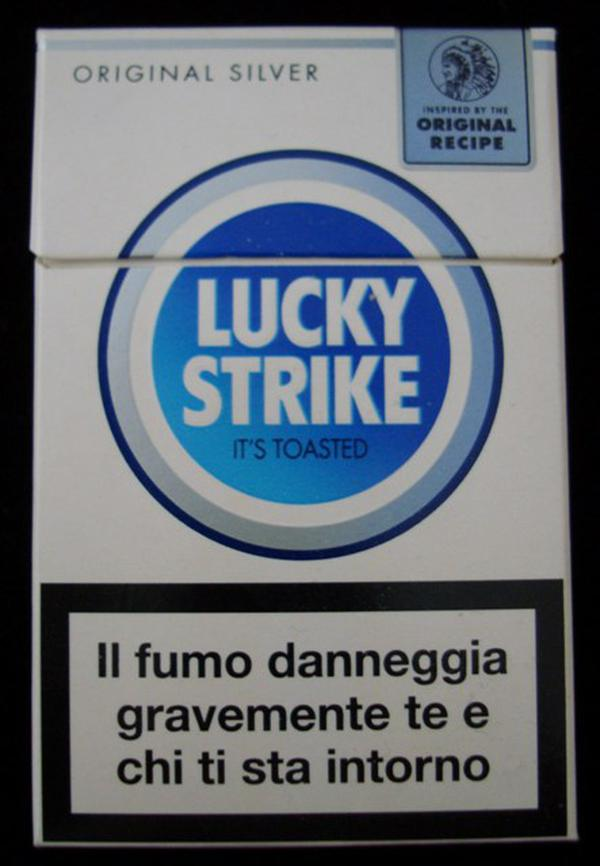lucky_strike_blue: (40, 31, 559, 838)
